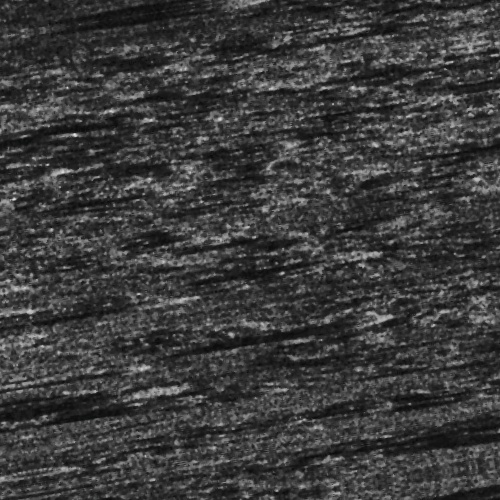object: (0, 256, 61, 285), (71, 365, 164, 378), (320, 263, 403, 276), (394, 118, 447, 133), (130, 281, 203, 288), (244, 0, 327, 6), (433, 46, 500, 53), (0, 429, 51, 438), (254, 234, 295, 241), (47, 101, 100, 106), (324, 333, 377, 338), (0, 155, 19, 164), (487, 452, 500, 465), (151, 175, 192, 178), (117, 340, 128, 351)
shadow: (291, 452, 500, 465), (214, 263, 361, 276), (302, 118, 421, 133), (0, 365, 117, 378), (290, 46, 469, 53), (4, 281, 166, 288), (19, 340, 122, 351), (100, 0, 285, 6), (169, 333, 350, 338), (432, 465, 500, 478), (185, 234, 275, 241), (452, 180, 500, 189), (42, 175, 171, 178), (0, 101, 73, 106), (121, 382, 155, 385)
